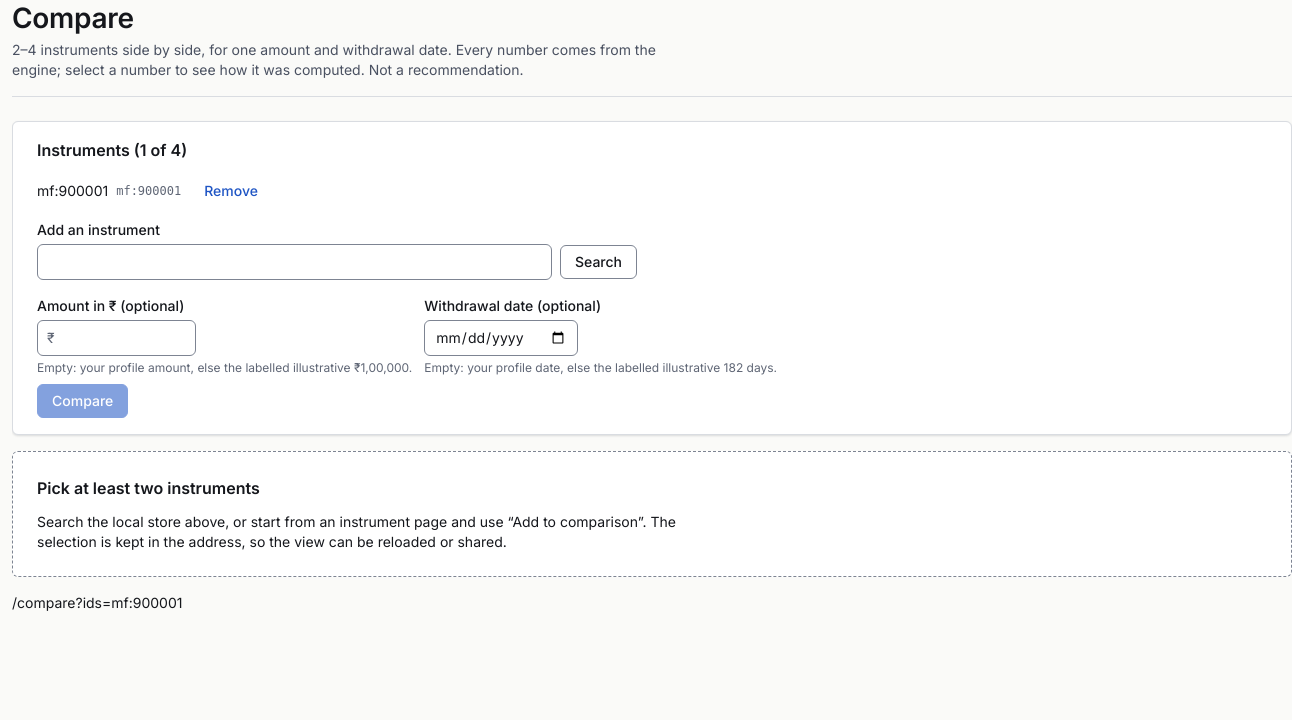
Scenario: Compare page › adding an instrument with the picker keeps ids in the URL and re-runs
Type "FIXTURE" into the field labelled "Add an instrument" at (294, 262), box x1=37 y1=244 x2=552 y2=280
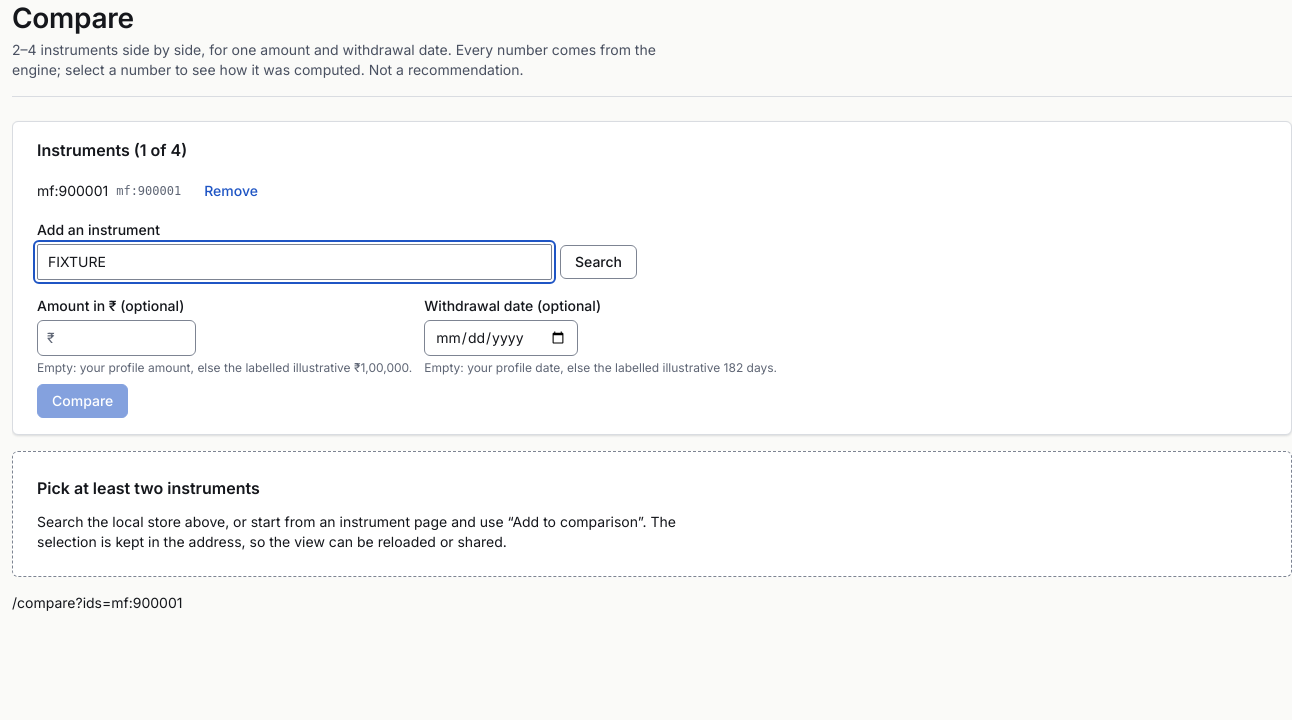
Click the button "Search" at (598, 262), box x1=560 y1=245 x2=637 y2=279
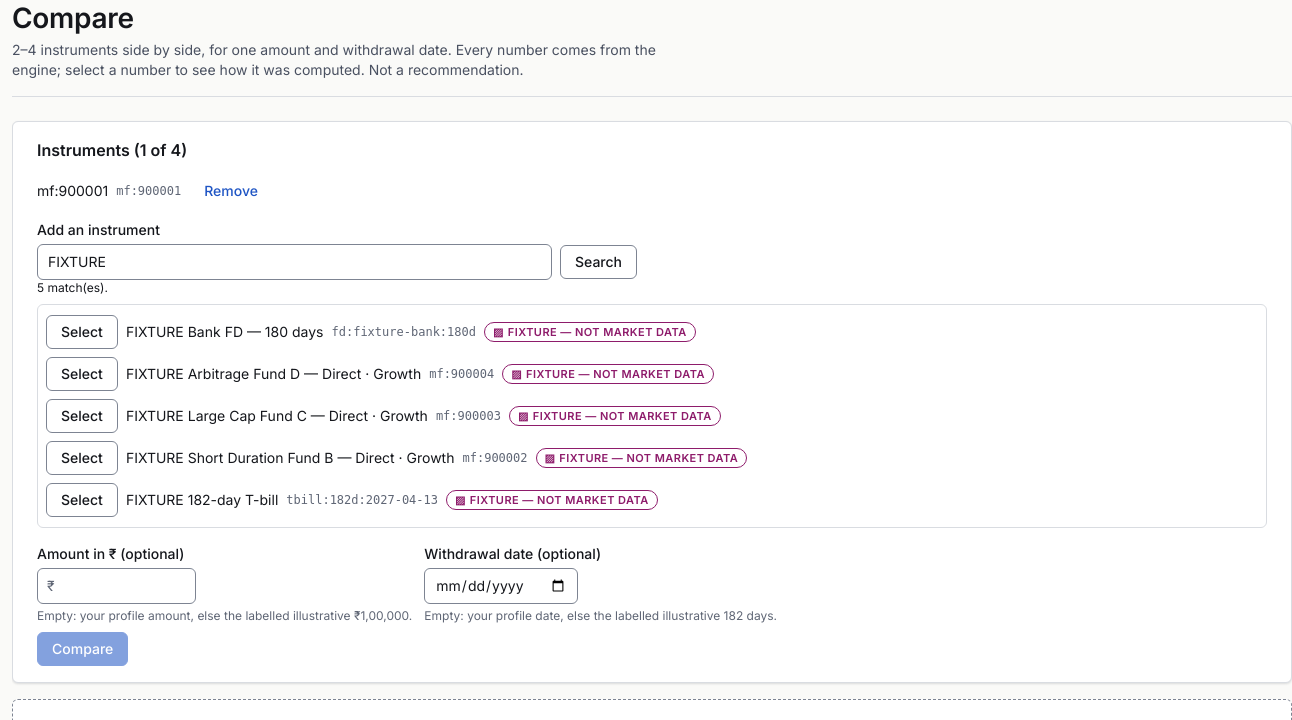
Click the button with aria-label "Select FIXTURE 182-day T-bill" at (82, 500), box x1=46 y1=483 x2=118 y2=517
(page scrolled)
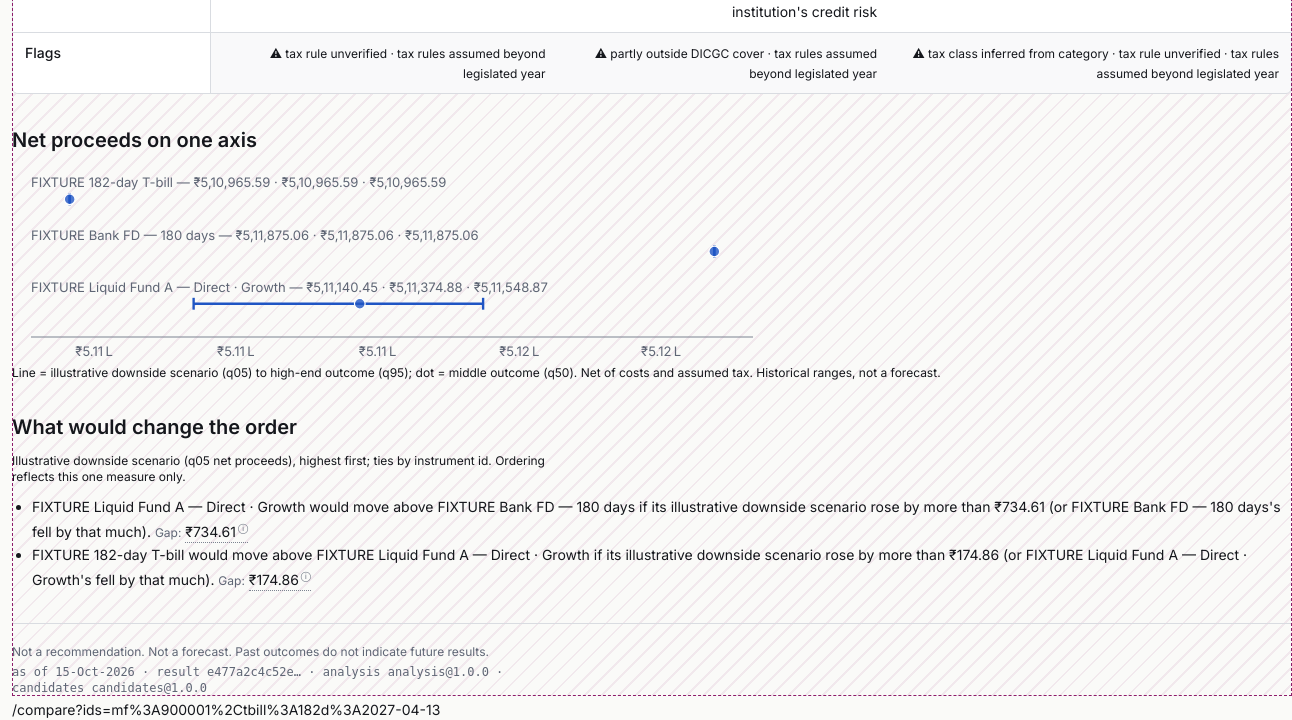
Expected: the text with test id "where" reads "/compare?ids=mf%3A900001%2Ctbill%3A182d%3A2027-04-13", x1=12 y1=701 x2=440 y2=718
